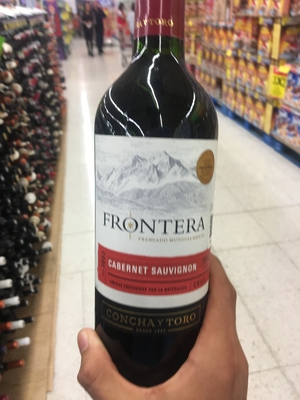frontera cabernet sauvignon: (89, 4, 251, 383)
